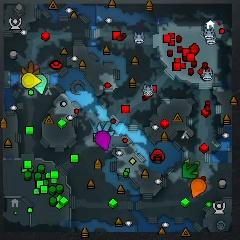p2: (34, 75, 47, 94)
p3: (95, 131, 111, 150)
p4: (22, 73, 42, 89)
p5: (191, 179, 206, 199)
x1: (34, 64, 41, 72)
x2: (185, 158, 200, 174)
x3: (97, 121, 115, 136)
x4: (182, 164, 198, 179)
x5: (21, 61, 40, 76)
